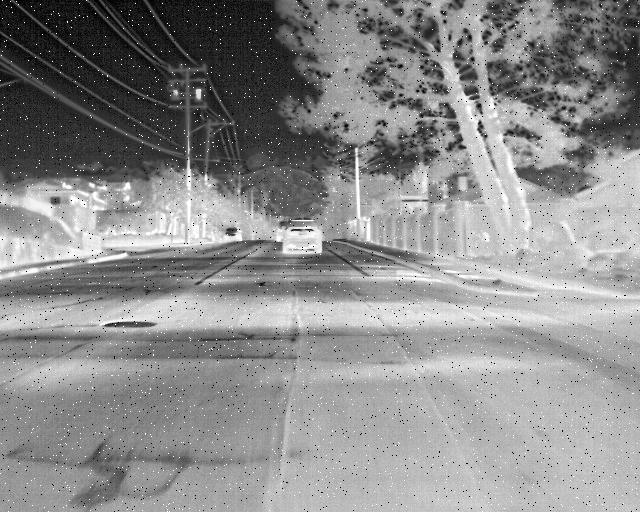car: (277, 211, 329, 264), (220, 222, 246, 250)
